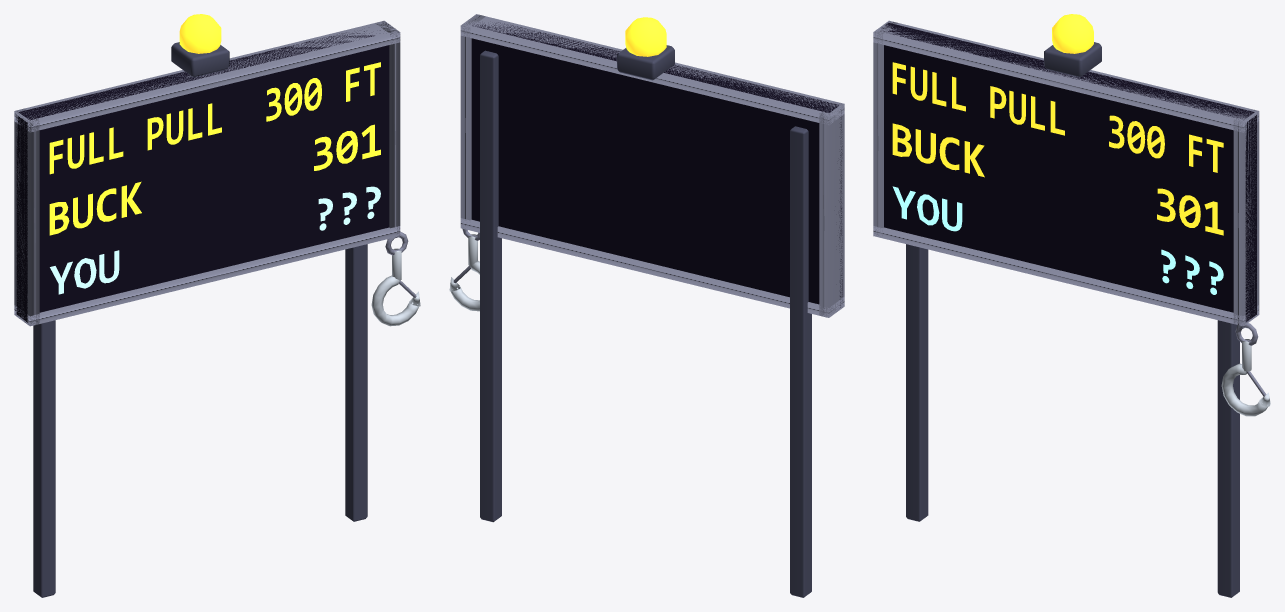
The model's file is scoreboard.glb.
The picture shows the model from 3 angles, left to right: view 1: azimuth 30°, elevation 25°; view 2: azimuth 150°, elevation 25°; view 3: azimuth 330°, elevation 25°; orthographic projection.
Parts seen in each view (by area): view 1: Board; view 2: Board; view 3: Board.
Part boxes in pixels (x1,y1,x2,y2): Board: [14, 14, 420, 597]; Board: [449, 14, 844, 597]; Board: [873, 14, 1270, 597].
Size of the model in its own units: 2.02 by 2.65 by 0.232.
